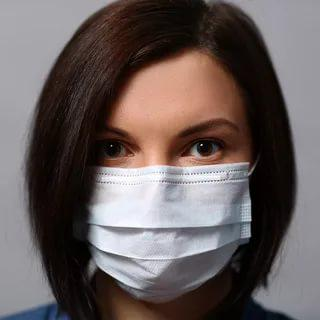mask: (76, 52, 261, 291)
